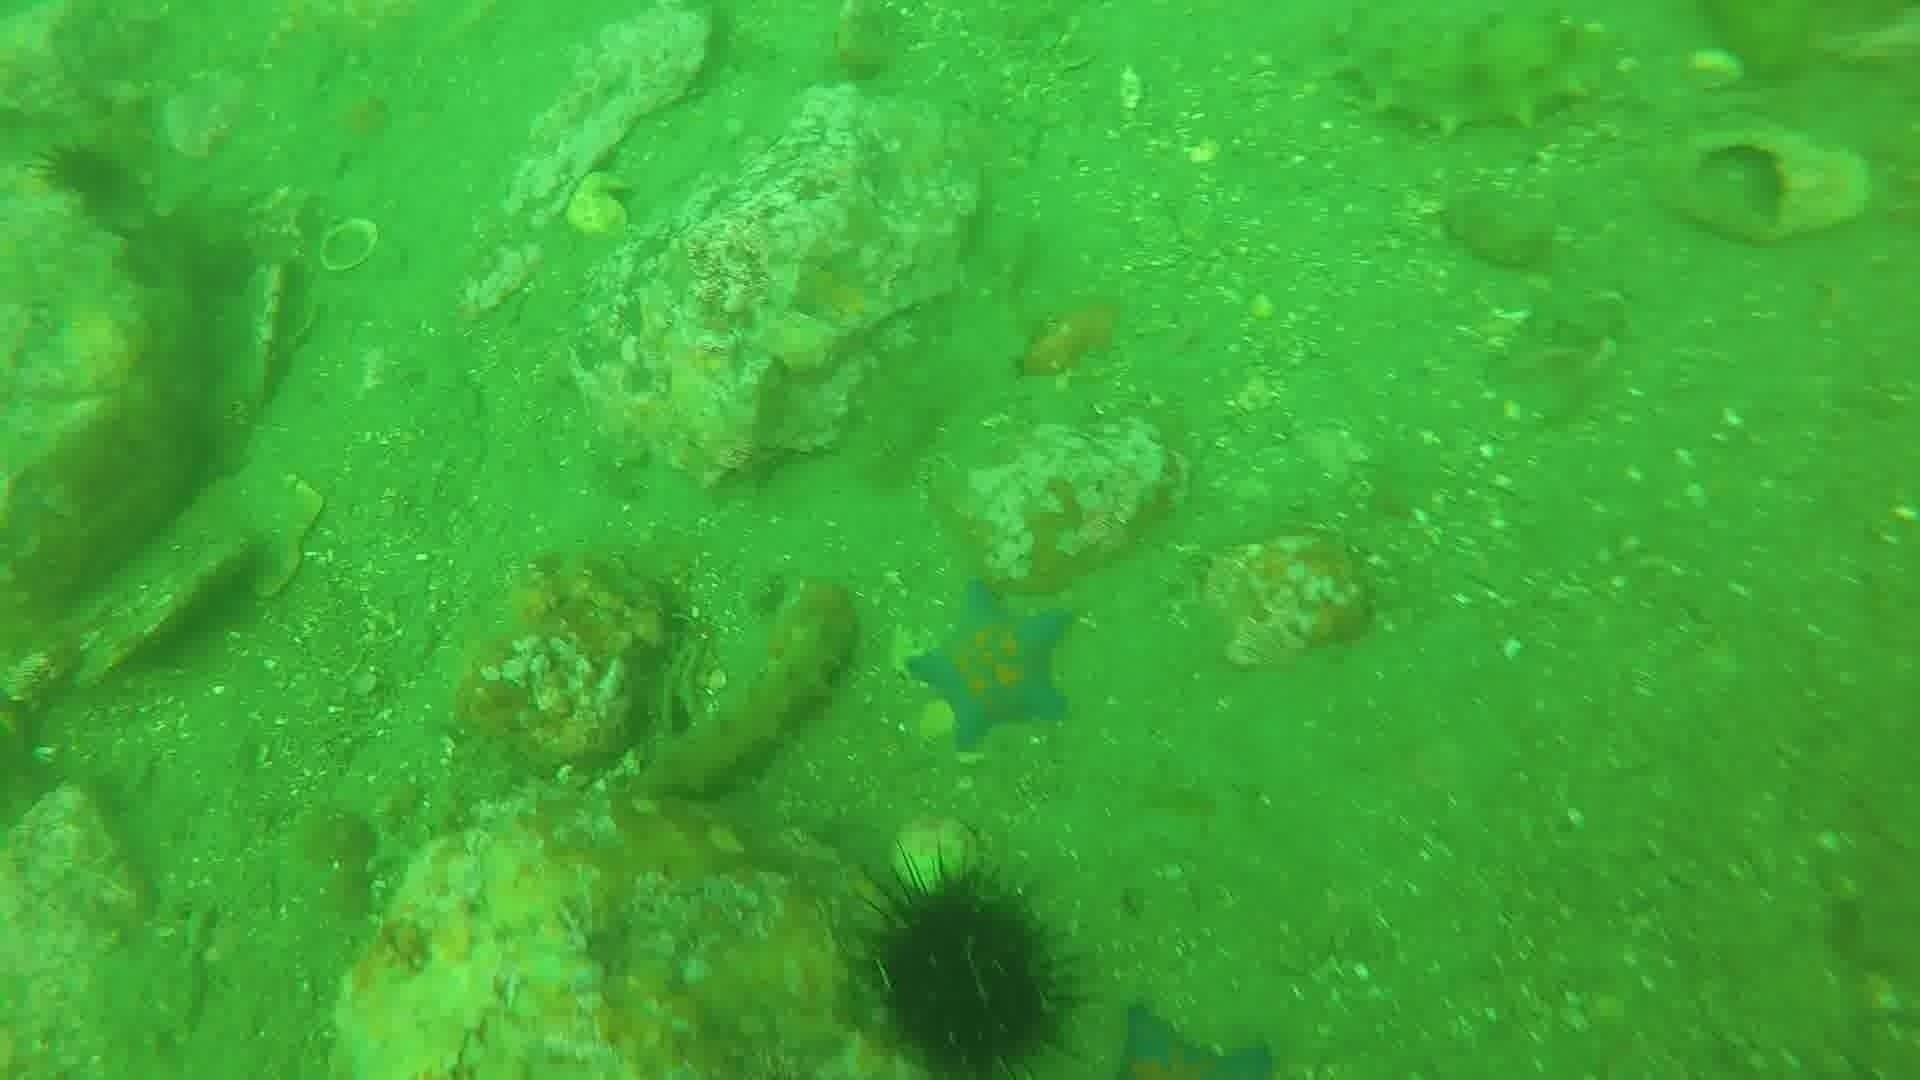echinus: (851, 851, 1081, 1075), (33, 136, 142, 225)
holothurian: (632, 580, 864, 806), (1319, 4, 1604, 142)
starfish: (902, 578, 1081, 752), (1095, 996, 1278, 1071)
